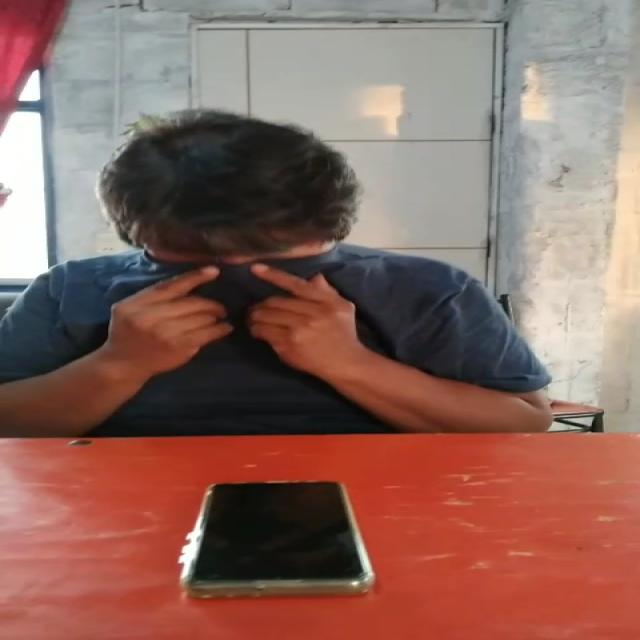8_ropa_rostro: (129, 246, 381, 328)
